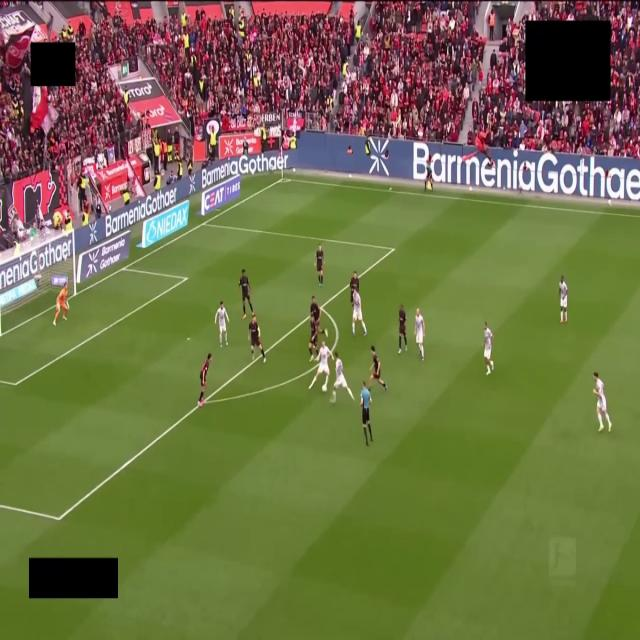ball: (322, 385, 327, 392)
player: (330, 352, 354, 402), (309, 342, 333, 391), (594, 372, 612, 431), (249, 313, 265, 362), (370, 346, 387, 390), (198, 353, 211, 407), (310, 296, 327, 335), (239, 270, 252, 319), (53, 284, 68, 326), (352, 291, 366, 335), (215, 301, 228, 347), (484, 322, 494, 375), (415, 309, 425, 360), (398, 304, 407, 353), (309, 313, 317, 361), (559, 276, 567, 323), (316, 245, 324, 286), (350, 272, 359, 304)
referee: (360, 382, 372, 446)
